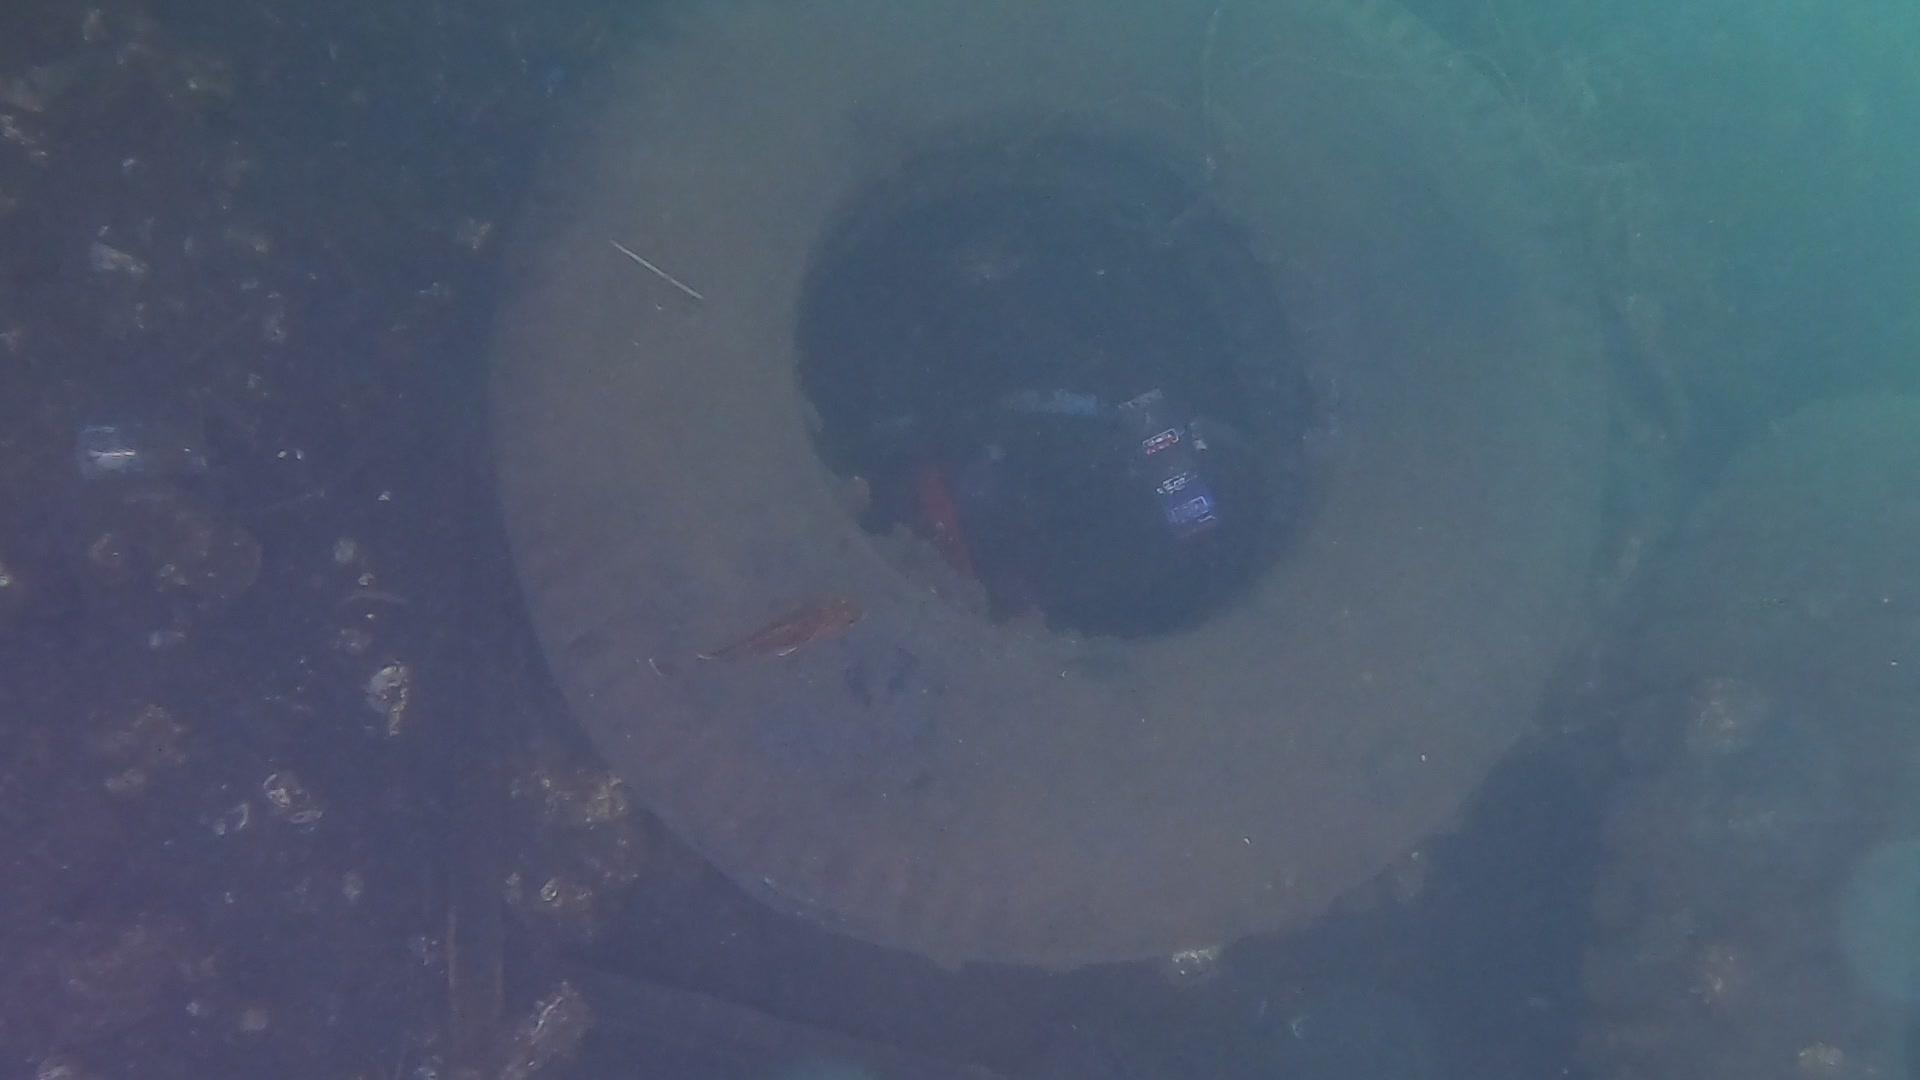tire: (485, 0, 1617, 976)
